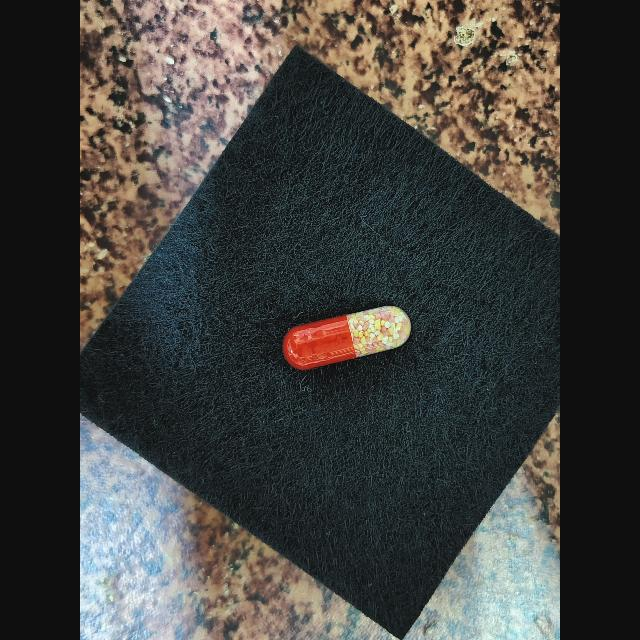Intact Capsule: (282, 306, 411, 370)
